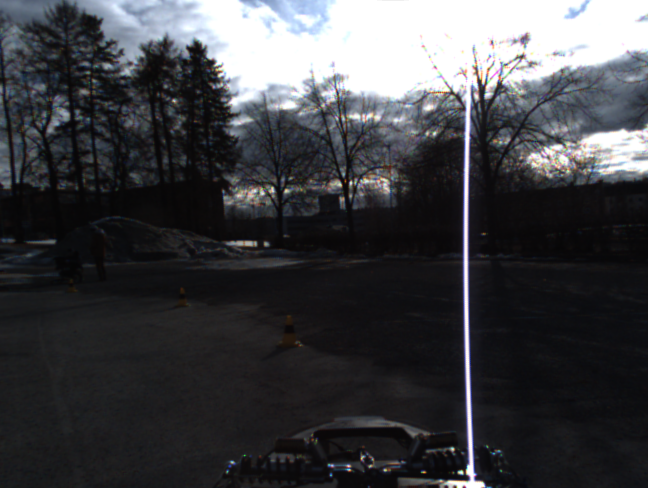cone-small-yellow: (277, 315, 301, 346), (176, 287, 190, 307), (65, 278, 76, 292)
